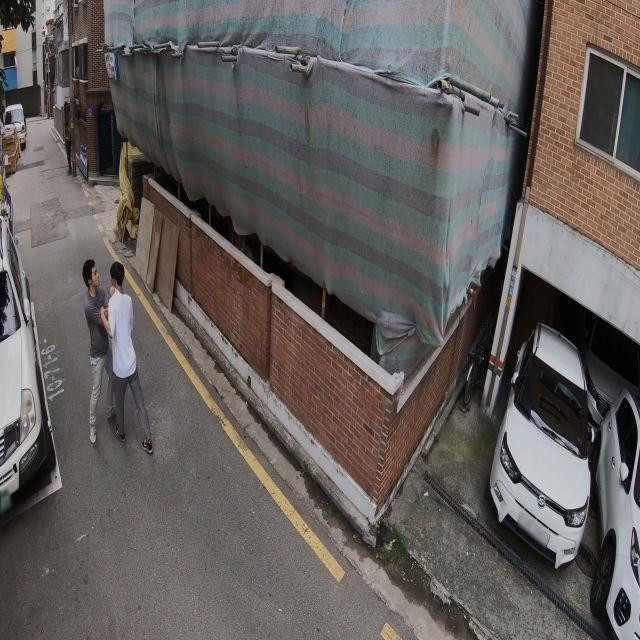fight: (80, 256, 152, 457)
